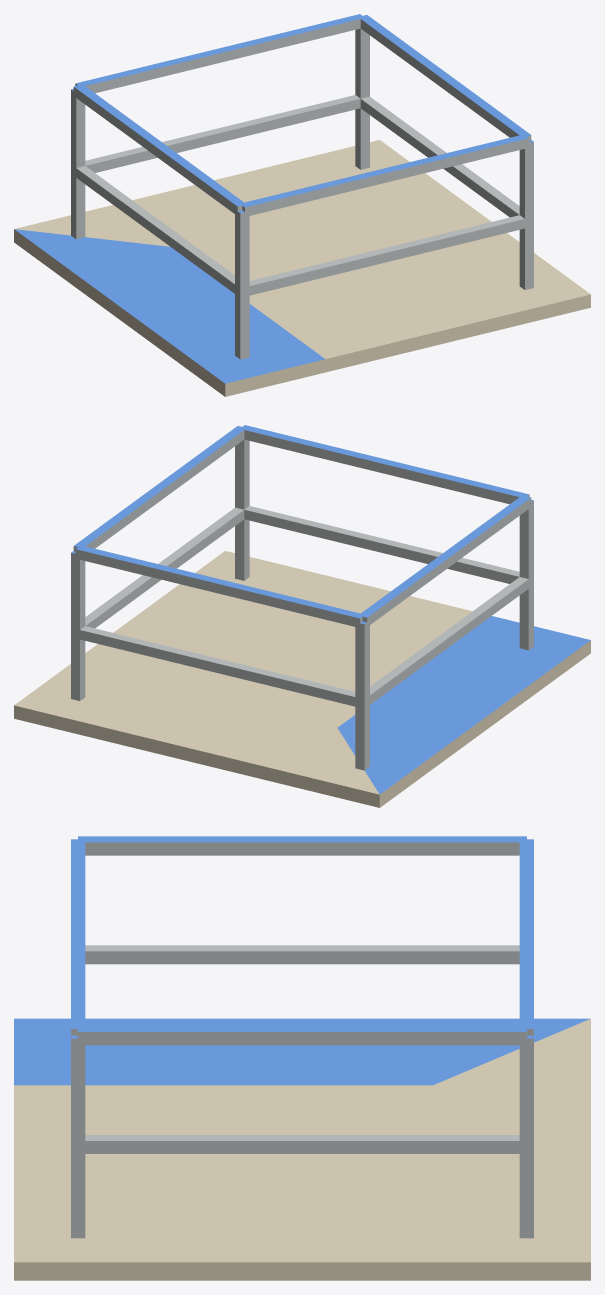
File: meridian_advanced_defences_scaffolding.glb
The picture shows the model from 3 angles, top to bottom: view 1: azimuth 30°, elevation 25°; view 2: azimuth 150°, elevation 25°; view 3: azimuth 270°, elevation 25°; orthographic projection. The views are drawn at different scales.
Parts seen in each view (by area): view 1: hull; view 2: hull; view 3: hull.
Part boxes in pixels (x1,y1,x2,y2): hull: (14, 14, 590, 396); hull: (14, 425, 590, 807); hull: (14, 836, 590, 1280).
Bounding box in the file's own units: 7.2 × 3.09 × 7.2.
